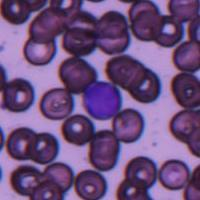L: (82, 79, 122, 120)
